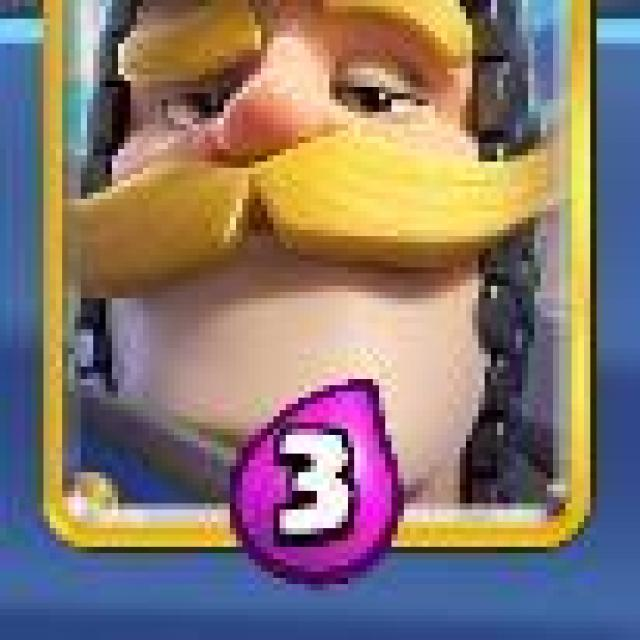Knight: (39, 0, 593, 551)
